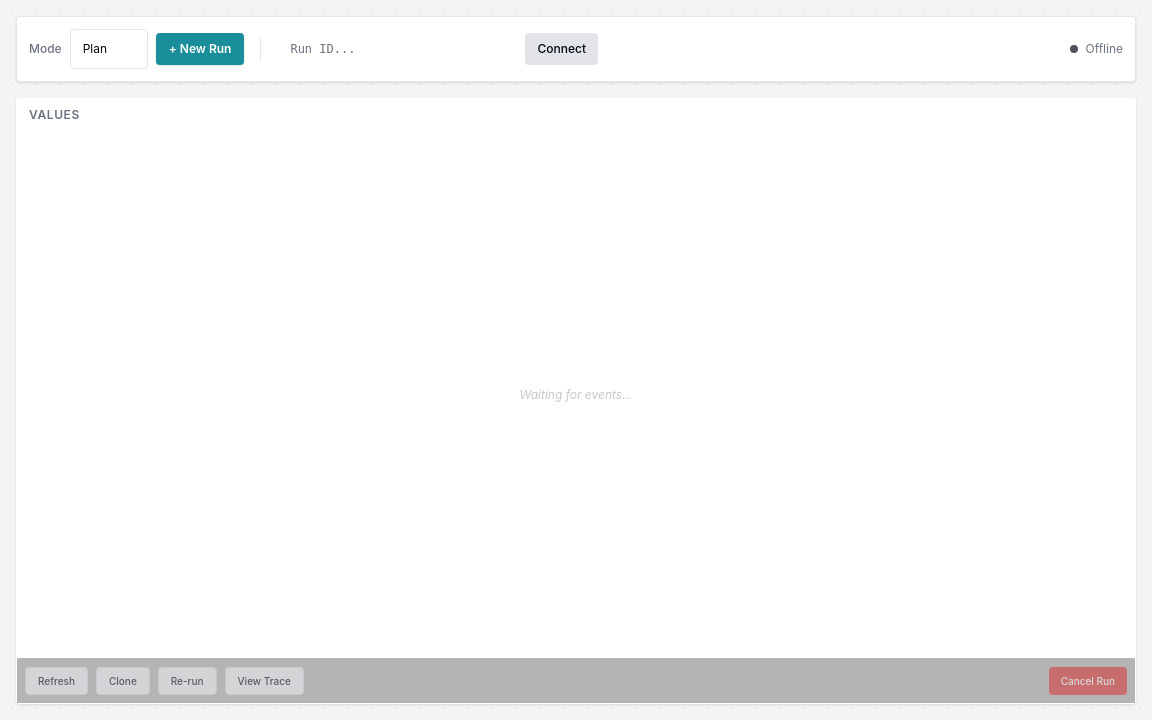
Test: RunsPanel (integration-ish) › create run (redis) -> shows run and auto-connects SSE and handles events
# Select mode 'redis'
Step 1. Select "Redis" in the dropdown → (109, 49), box [70,29,148,69]
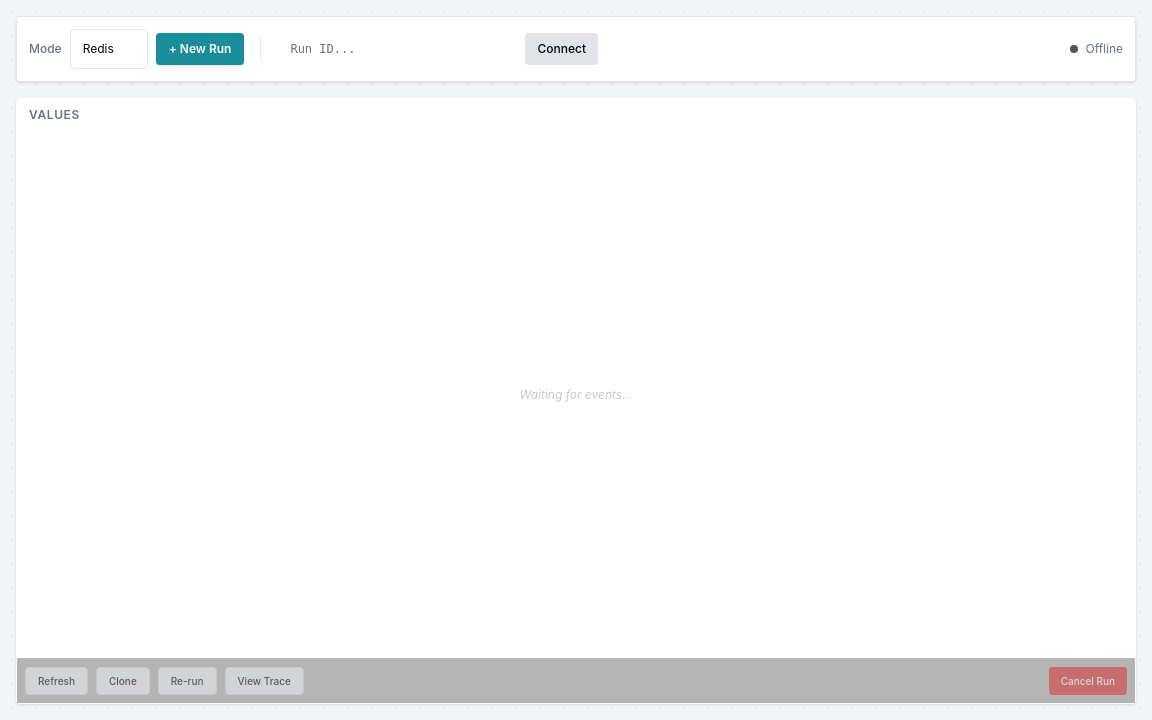
# Click "+ New Run" (button text changed from "Create Run")
Step 2. Click the button "+ New Run" → (200, 49), box [156,33,244,65]
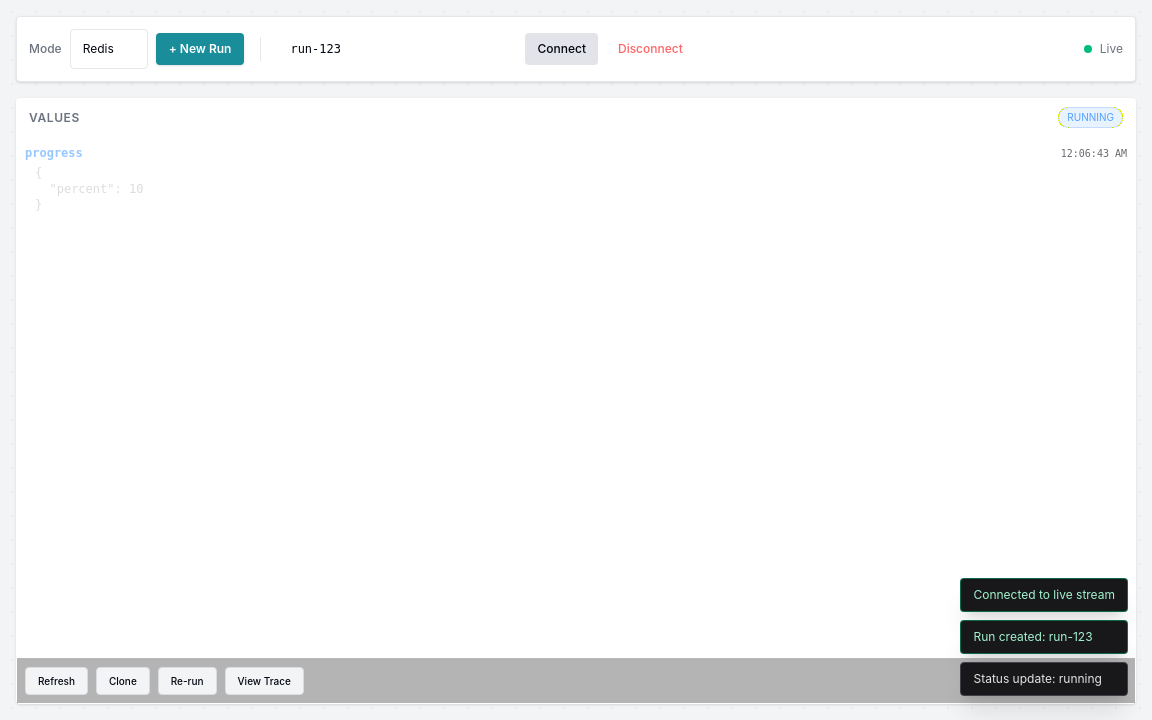
Expected: the field with placeholder "Run ID..." holds "run-123", [277,33,517,65]
Expected: the text "progress" is shown, [25,145,83,161]
